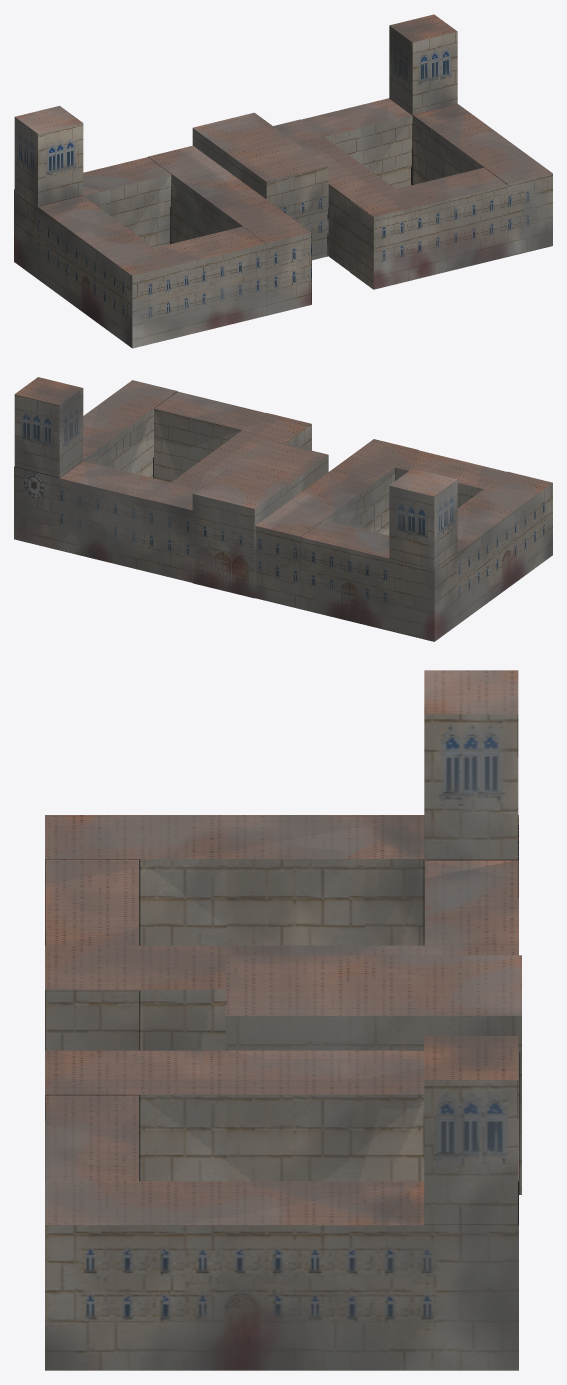
Rendered from universitatlvl1lowhealth.fbx.
3 views of the same model, one above another, from view 1: azimuth 30°, elevation 25°; view 2: azimuth 150°, elevation 25°; view 3: azimuth 270°, elevation 25° (orthographic). The views are drawn at different scales.
Parts seen in each view (by area): view 1: EntradaCentro.006; view 2: EntradaCentro.006; view 3: EntradaCentro.006.
Boxes of the visible parts, x1,y1,x2,y2 form: EntradaCentro.006: (14, 14, 552, 348); EntradaCentro.006: (14, 377, 552, 641); EntradaCentro.006: (45, 670, 521, 1370).
Size of the model in its own units: 7867 by 2595 by 3863.
